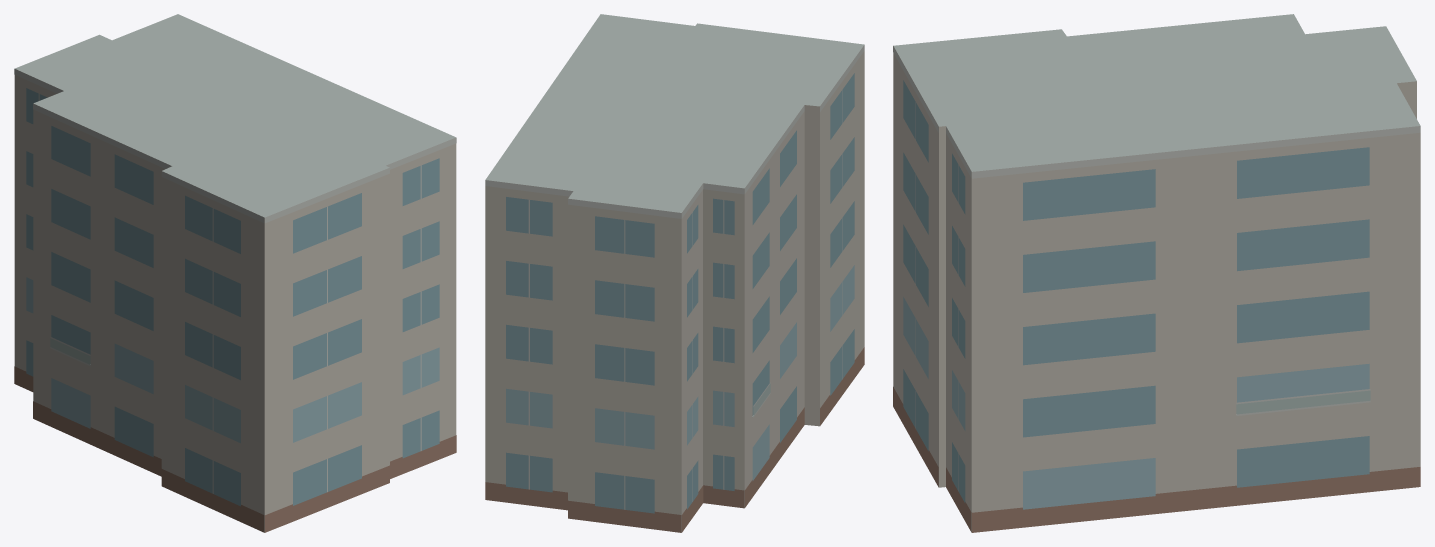
The model's file is survey-upis-32705098.glb.
3 views of the same model, side by side, from view 1: azimuth 30°, elevation 25°; view 2: azimuth 150°, elevation 25°; view 3: azimuth 270°, elevation 25° (orthographic). The views are drawn at different scales.
Visible parts, largest first — view 1: survey-upis-32705098.tmp; view 2: survey-upis-32705098.tmp; view 3: survey-upis-32705098.tmp.
Boxes of the visible parts, <box> form: survey-upis-32705098.tmp: <box>14,14,456,532</box>; survey-upis-32705098.tmp: <box>485,14,864,532</box>; survey-upis-32705098.tmp: <box>893,14,1420,532</box>.
Size of the model in its own units: 12.21 by 13 by 17.22.
